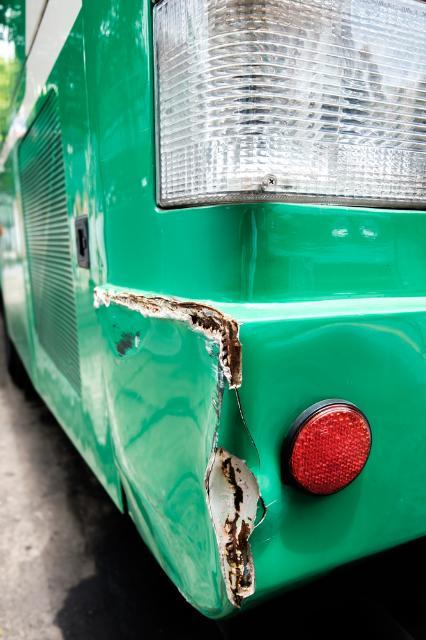crack: (94, 286, 245, 394)
dent: (112, 312, 259, 619), (223, 199, 271, 304)
